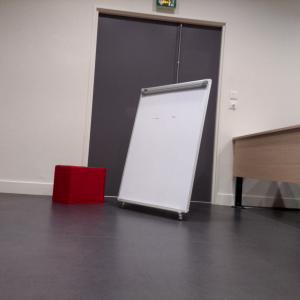big: (116, 76, 214, 214)
medium: (53, 164, 105, 205)
